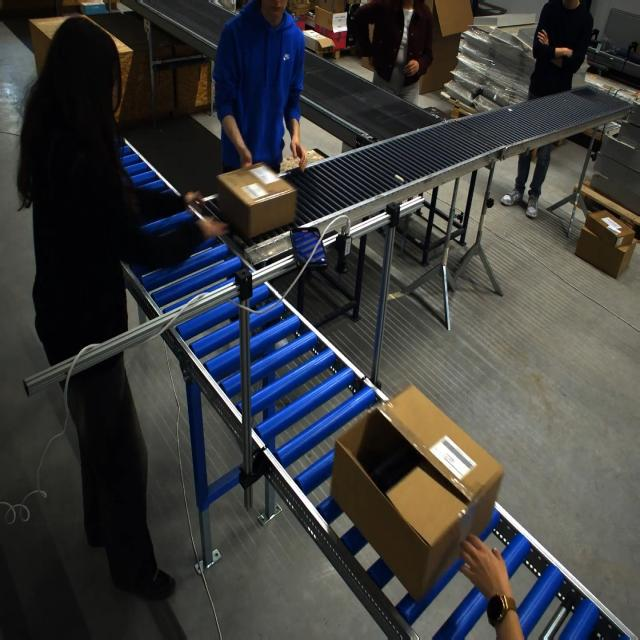box: (340, 404, 502, 600), (215, 162, 296, 240)
